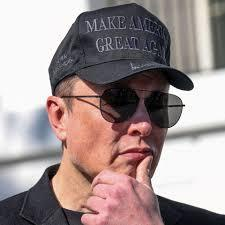cap: (46, 4, 199, 96)
sunglasses: (97, 84, 188, 128)
